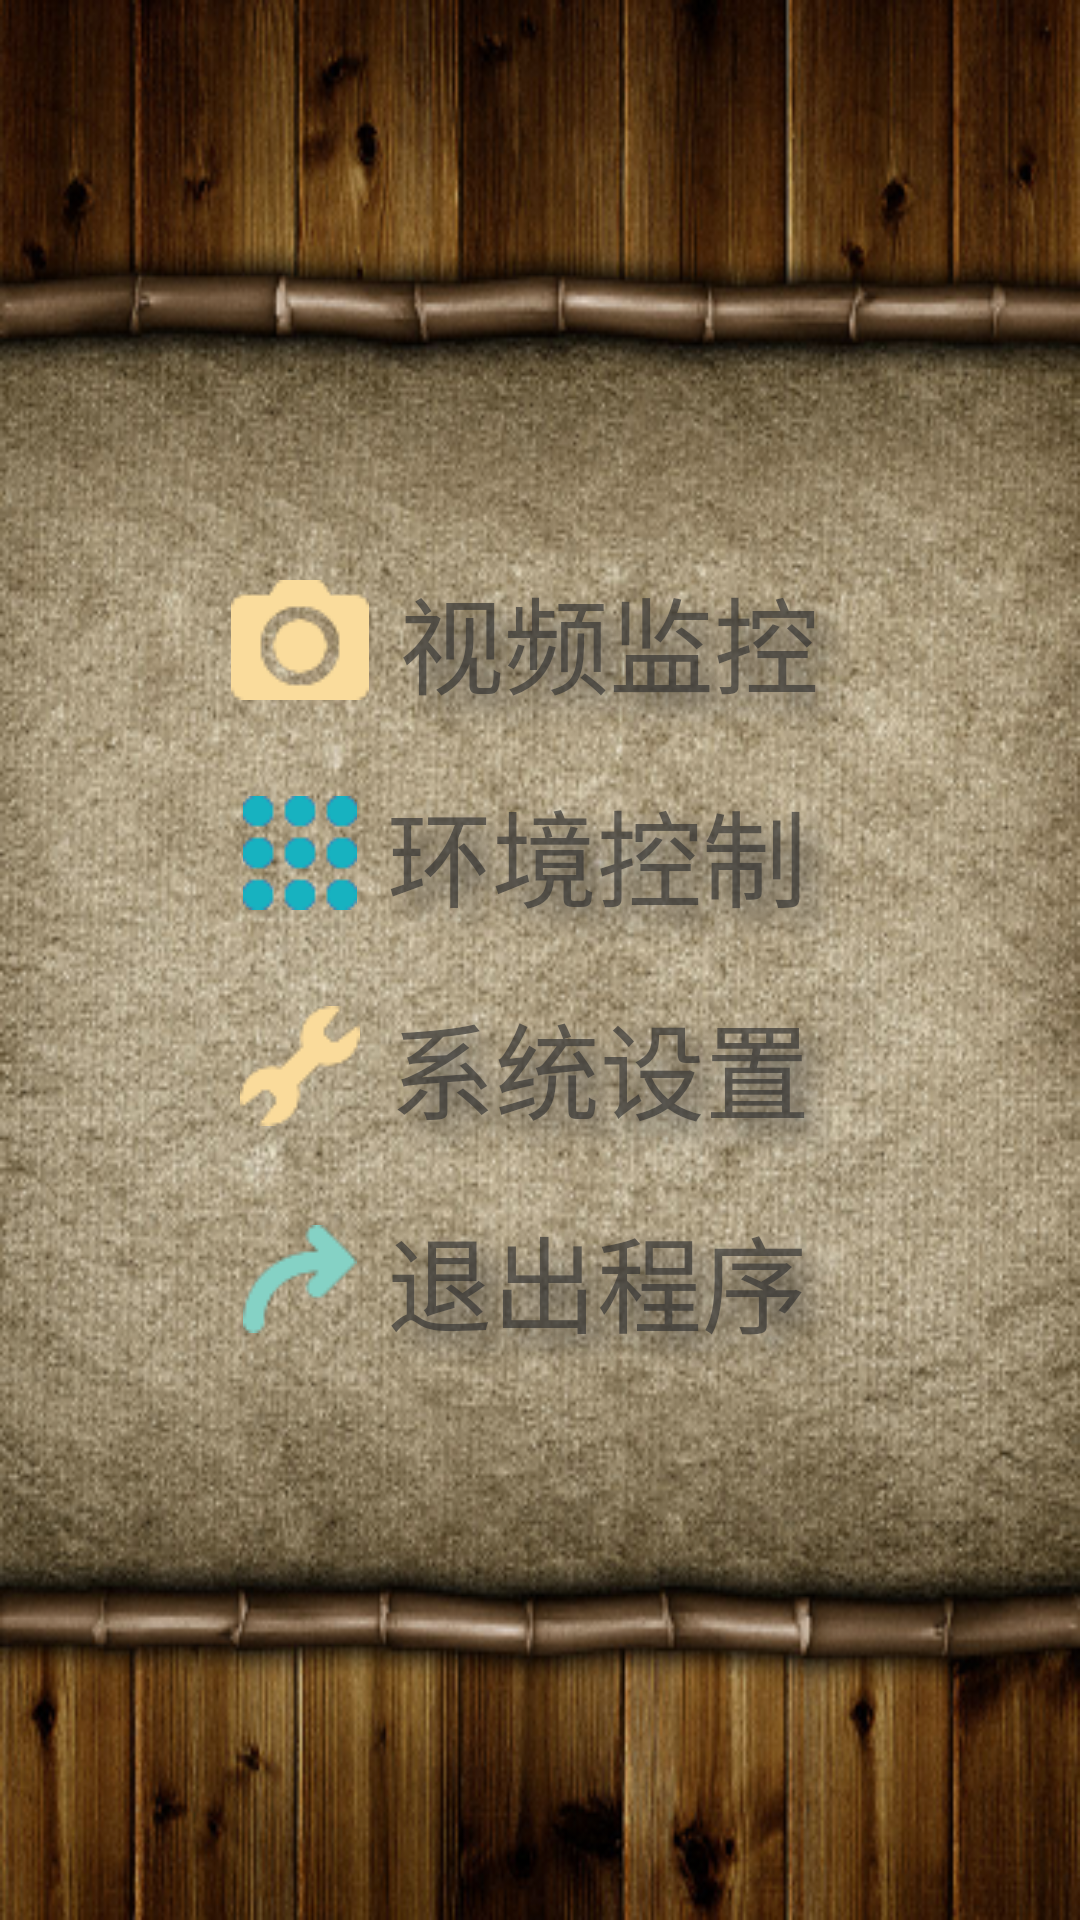

Named icons in this screenshot (1080 × 1920) and their bounding boxes, (x1, y1, x2, y2):
camera: (231, 580, 369, 700)
control: (243, 796, 357, 910)
exit: (243, 1225, 357, 1333)
setting: (240, 1006, 360, 1126)
